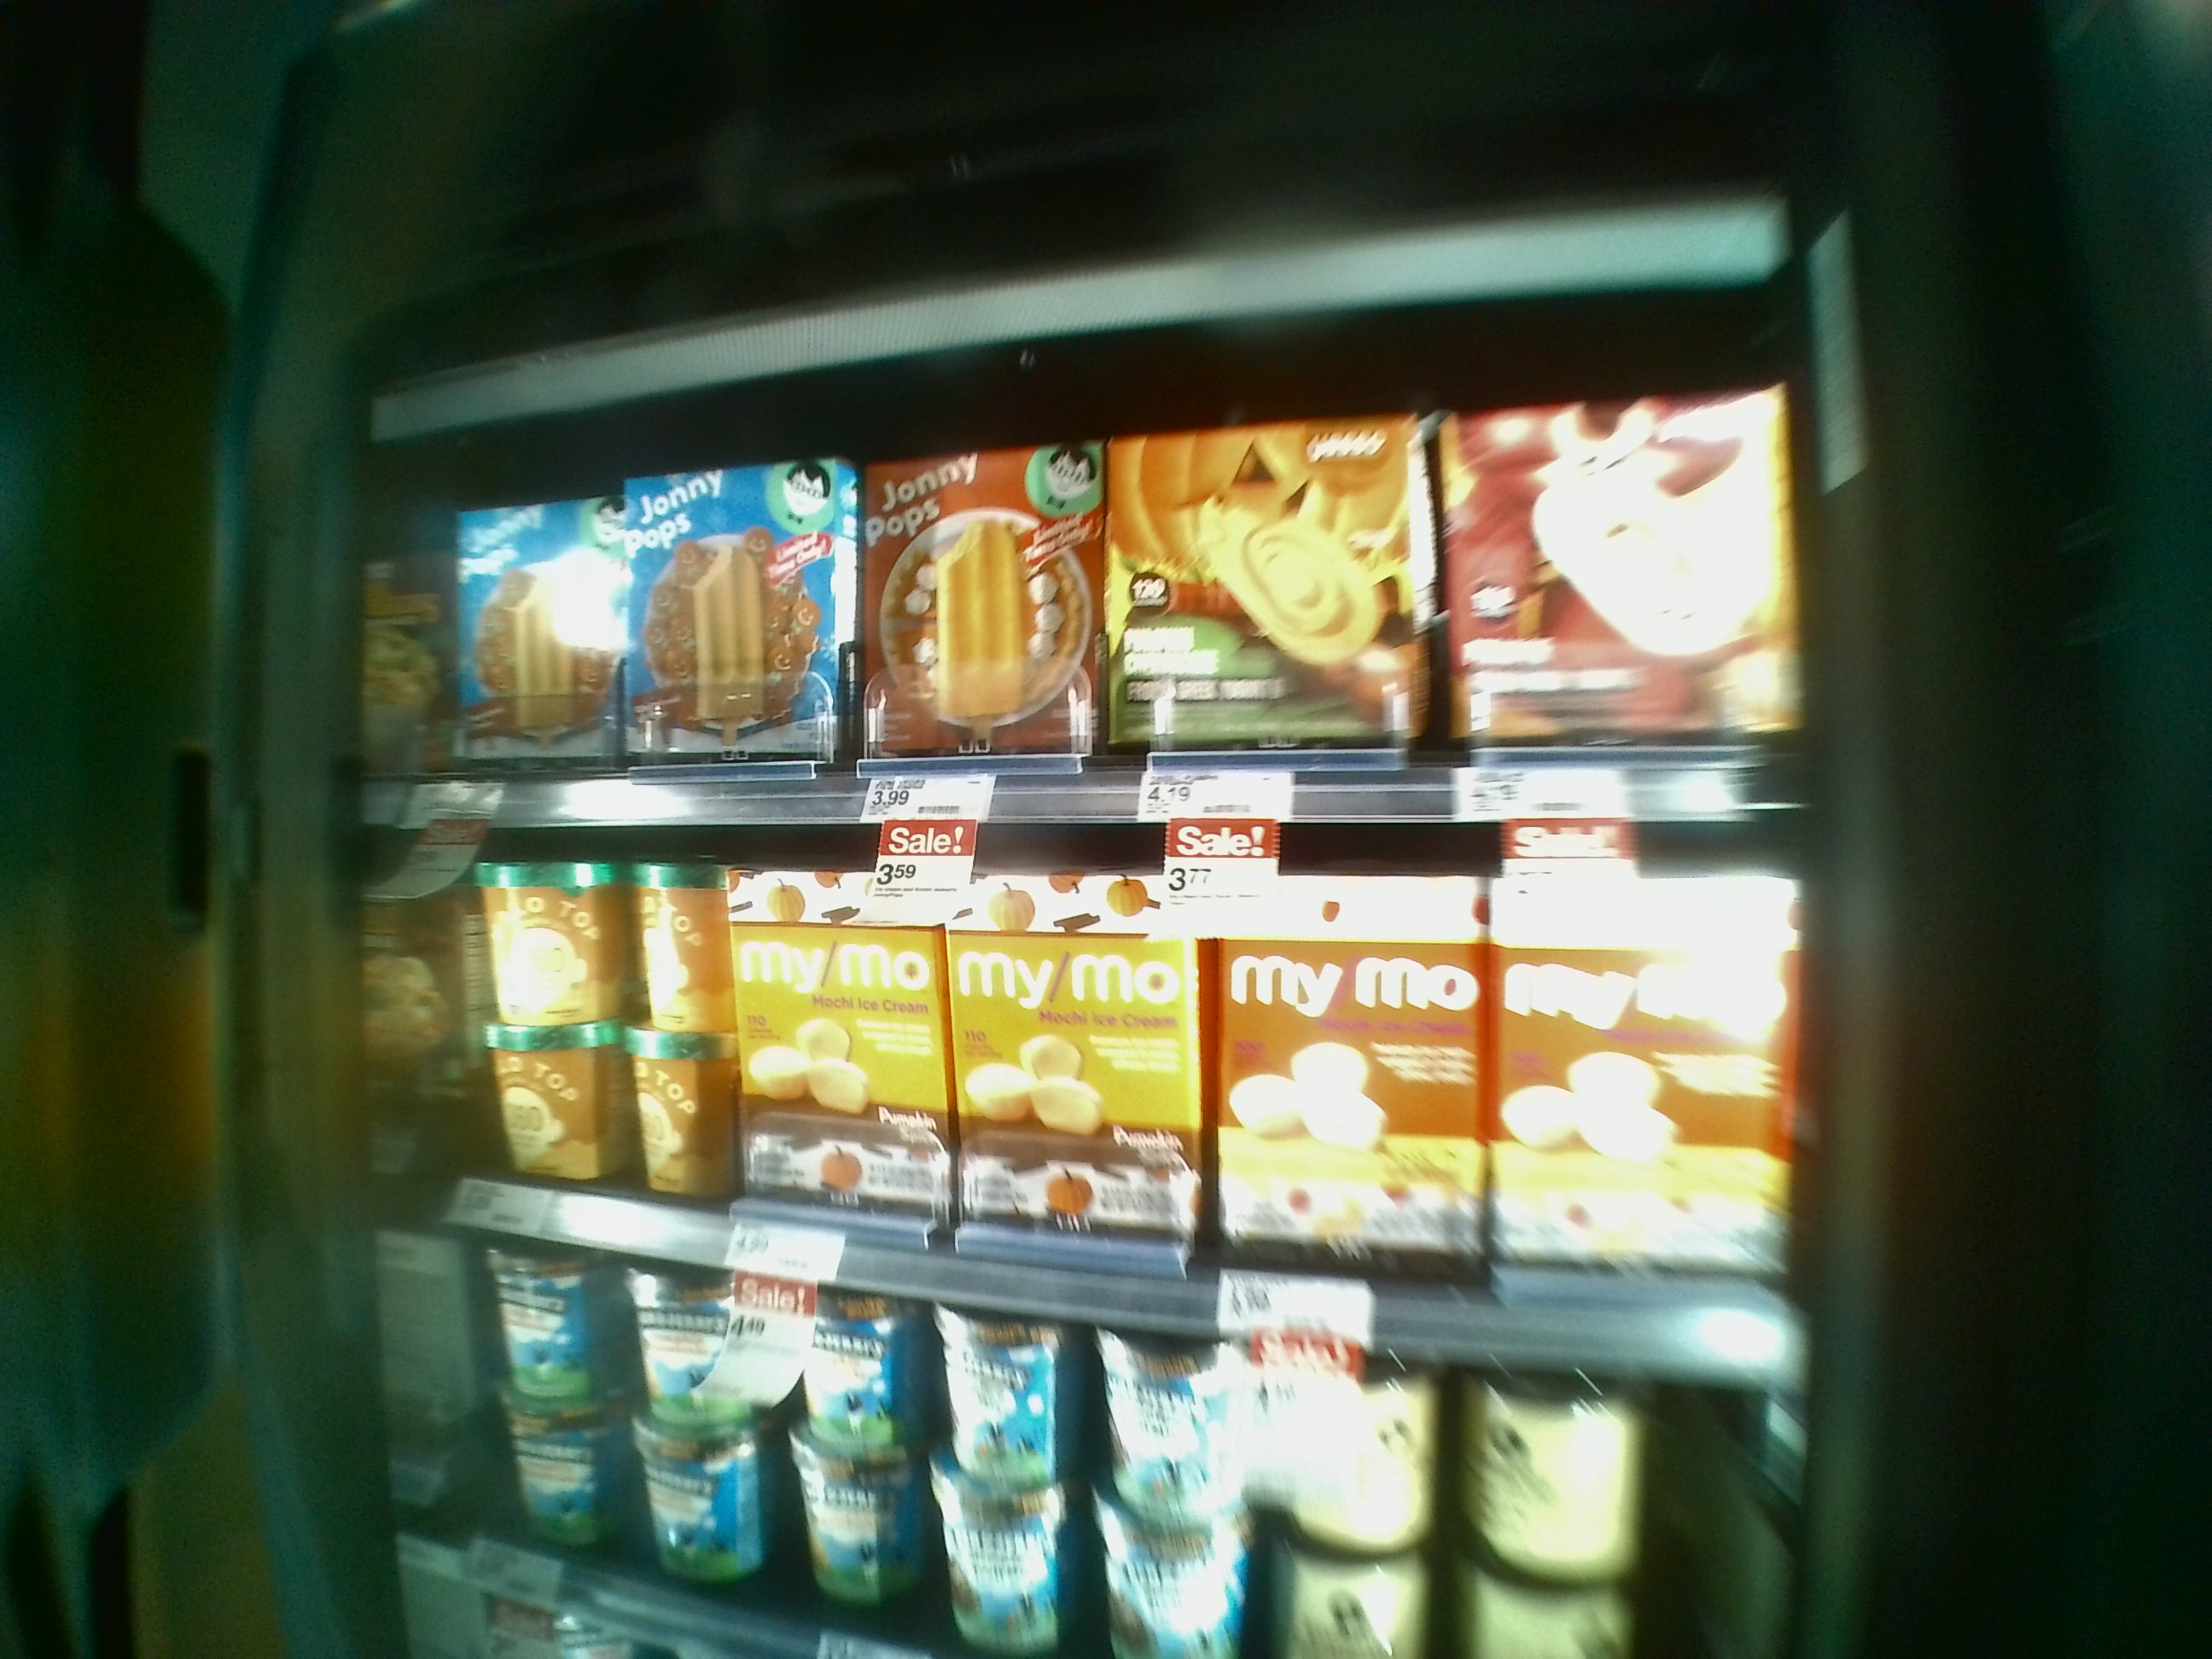shelf: (446, 781, 1787, 1351), (420, 357, 1780, 835)
